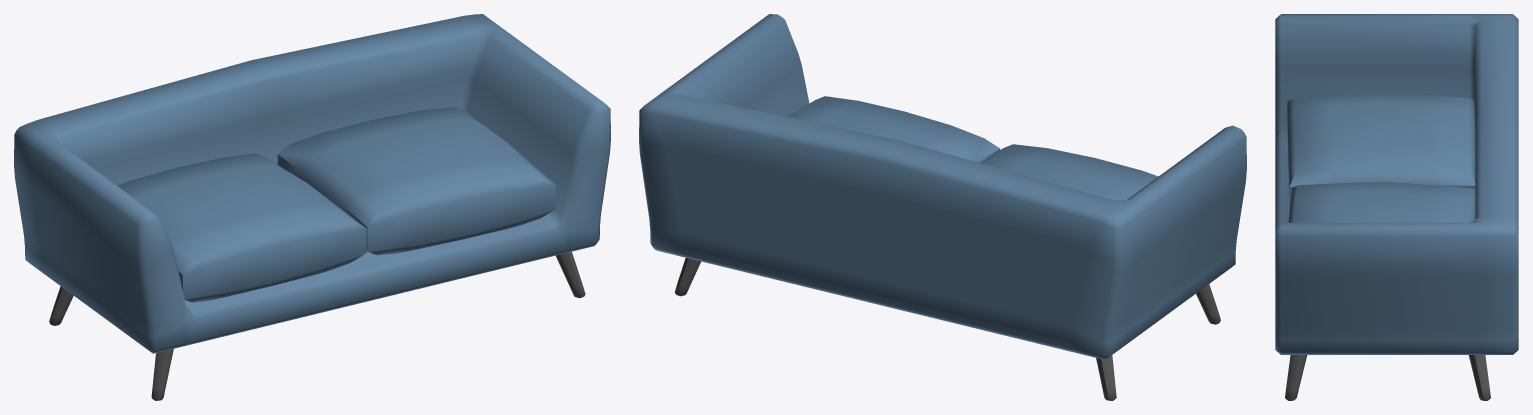
The model's file is couch_medium.glb.
The picture shows the model from 3 angles, left to right: view 1: azimuth 30°, elevation 25°; view 2: azimuth 150°, elevation 25°; view 3: azimuth 270°, elevation 25°; orthographic projection. The views are drawn at different scales.
Visible parts, largest first — view 1: Couch_Medium1; view 2: Couch_Medium1; view 3: Couch_Medium1.
Boxes of the visible parts, x1,y1,x2,y2 form: Couch_Medium1: (14,14,610,400); Couch_Medium1: (639,14,1246,400); Couch_Medium1: (1275,14,1518,400).
Size of the model in its own units: 4.69 by 1.91 by 2.2.
